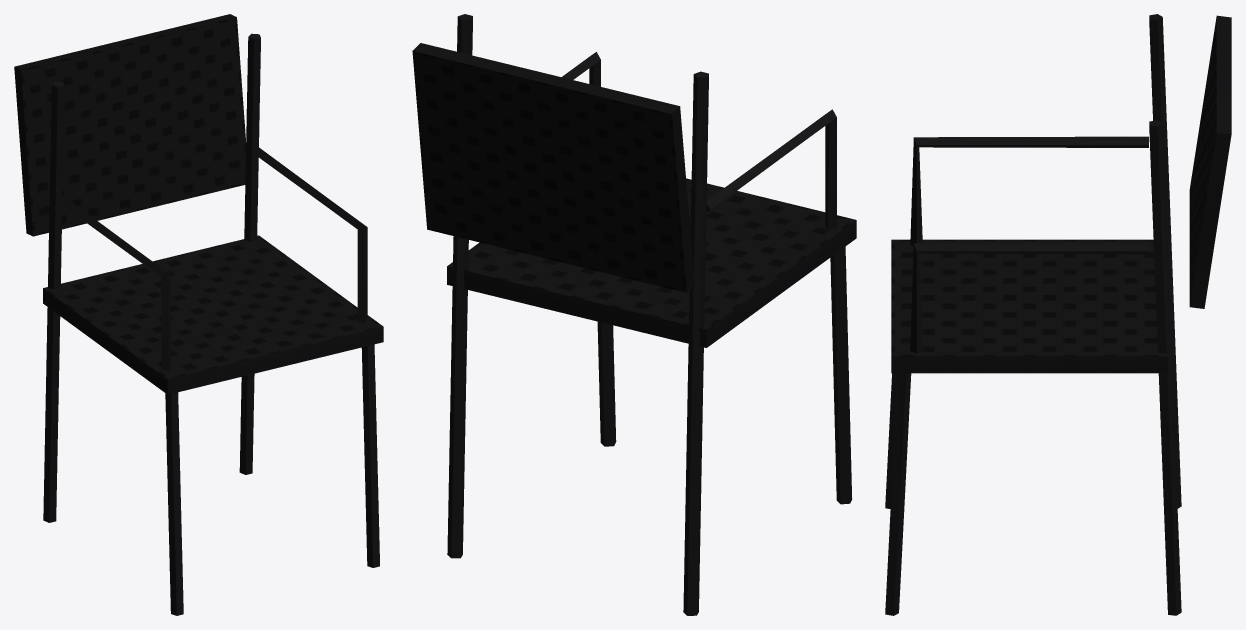
The model's file is SM_Molo_SediaNera.fbx.
3 views of the same model, side by side, from view 1: azimuth 30°, elevation 25°; view 2: azimuth 150°, elevation 25°; view 3: azimuth 270°, elevation 25° (orthographic). The views are drawn at different scales.
Visible parts, largest first — view 1: SM_Molo_SediaNera; view 2: SM_Molo_SediaNera; view 3: SM_Molo_SediaNera.
Part boxes in pixels (x1,y1,x2,y2): SM_Molo_SediaNera: (14,14,383,615); SM_Molo_SediaNera: (412,14,856,615); SM_Molo_SediaNera: (885,14,1231,615).
Size of what is drawn, in the model's own units: 44 by 55.13 by 86.1.
Materials: 1 (1 with a texture image).
